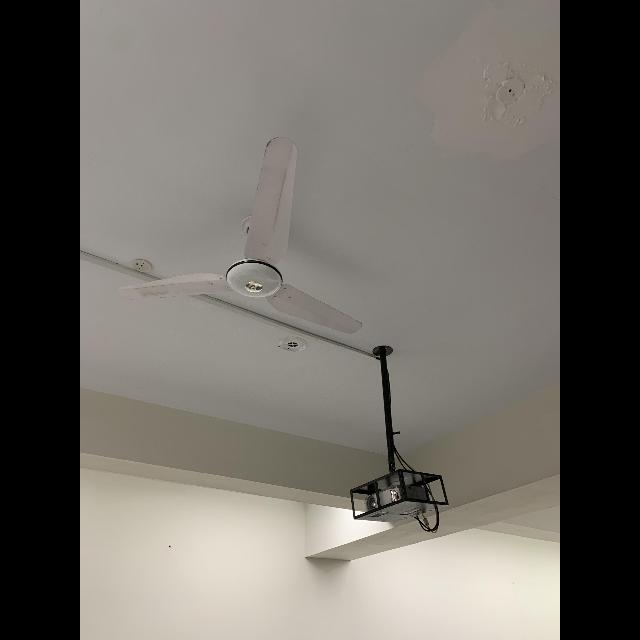Projector: (350, 469, 449, 524)
